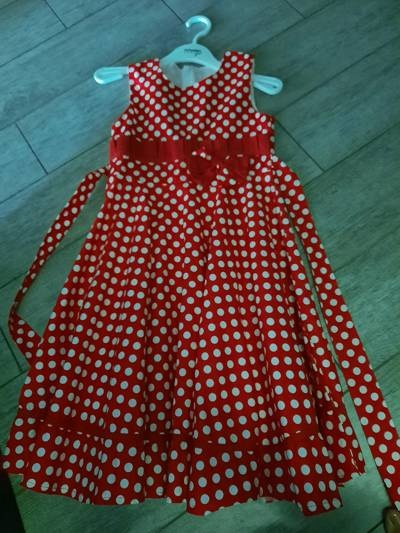Dress: (23, 40, 393, 512)
